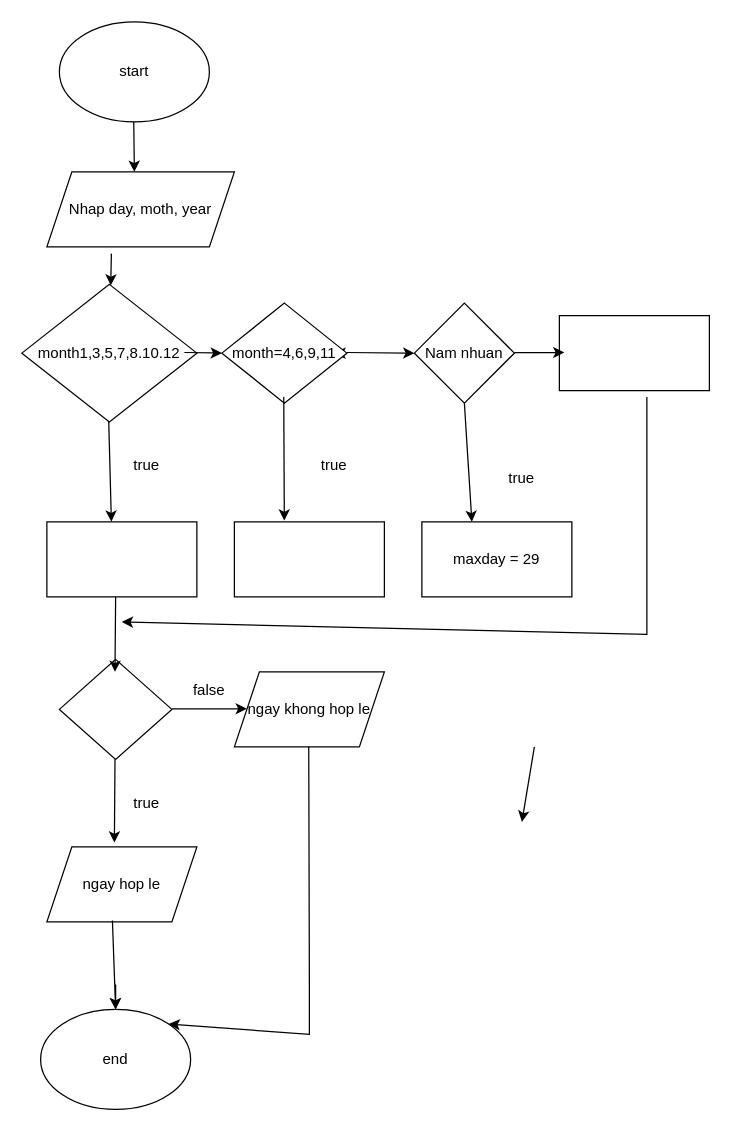
This 731x1131 diagram has some shape labels left out. Here are the shapes that lost their labels. From the top down, the centre of each, then its label:
the point at 633,352: maxDay=28
the point at 121,559: maxDay =31
the point at 308,559: maxday=30
the point at 115,708: day<==maxDay
